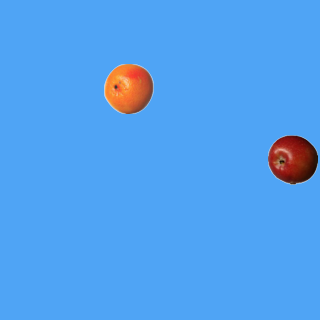Apple Braeburn: (267, 134, 317, 184)
Grapefruit Pink: (103, 63, 153, 113)
